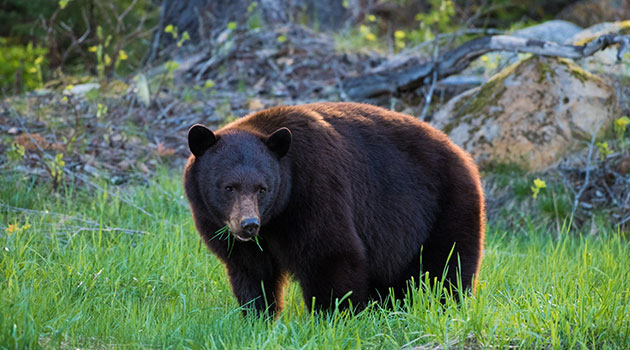bear: (184, 121, 297, 245)
